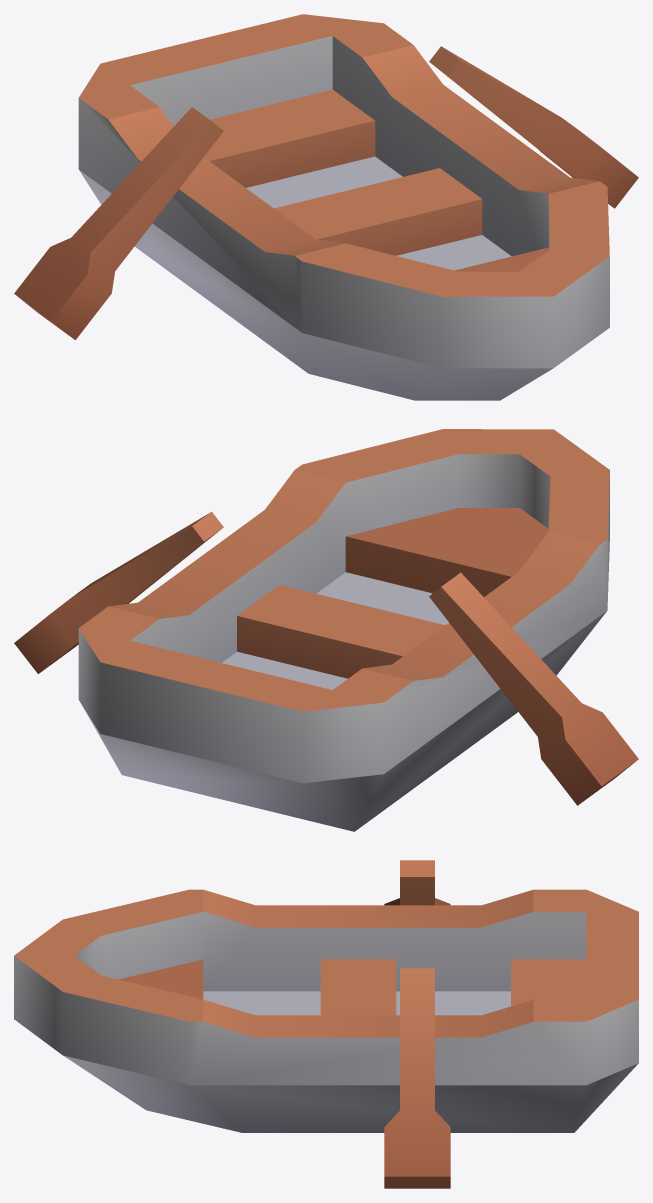
Rendered from rowboat-large.glb.
The picture shows the model from 3 angles, top to bottom: view 1: azimuth 30°, elevation 25°; view 2: azimuth 150°, elevation 25°; view 3: azimuth 270°, elevation 25°; orthographic projection. The views are drawn at different scales.
Parts seen in each view (by area): view 1: boat-row-large, paddles; view 2: boat-row-large, paddles; view 3: boat-row-large, paddles.
Part boxes in pixels (left/top/right/bottom): boat-row-large: left=78, top=14, right=609, bottom=400; paddles: left=14, top=46, right=638, bottom=339; boat-row-large: left=78, top=429, right=609, bottom=831; paddles: left=14, top=512, right=638, bottom=805; boat-row-large: left=14, top=889, right=638, bottom=1132; paddles: left=384, top=860, right=450, bottom=1188.
Size of the model in its own units: 2.75 by 0.8477 by 2.85.
